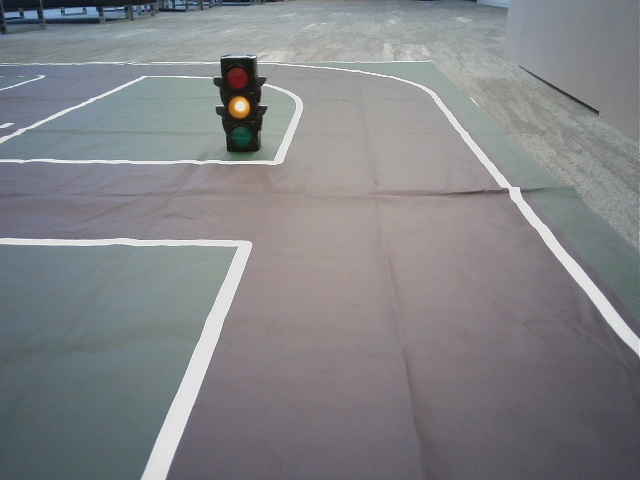yellow: (220, 59, 256, 148)
